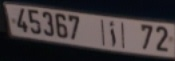2: (155, 25, 168, 52)
3: (43, 11, 54, 36)
4: (14, 5, 28, 33)
5: (28, 9, 40, 33)
6: (55, 11, 68, 38)
7: (138, 23, 153, 50), (67, 14, 81, 39)
a: (107, 19, 117, 48)
